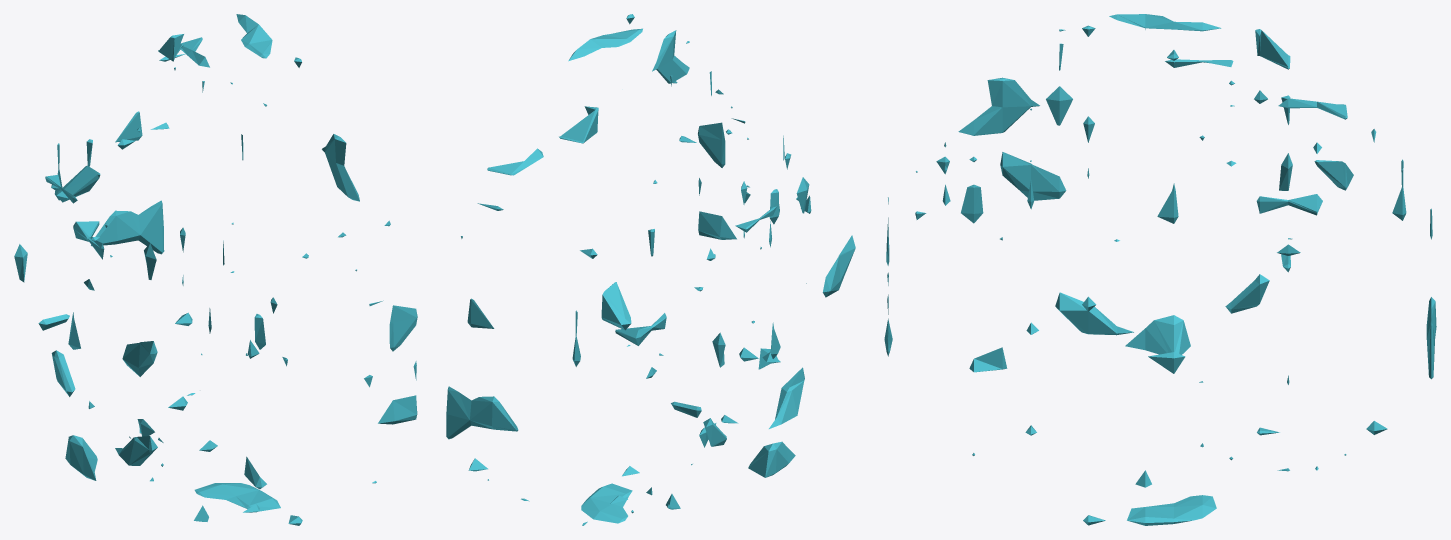
3 views of the same model, side by side, from view 1: azimuth 30°, elevation 25°; view 2: azimuth 150°, elevation 25°; view 3: azimuth 270°, elevation 25° (orthographic). The views are drawn at different scales.
Parts seen in each view (by area): view 1: Renderer Node; view 2: Renderer Node; view 3: Renderer Node.
Boxes of the visible parts, left/top/right/bottom form: Renderer Node: left=14, top=14, right=417, bottom=525; Renderer Node: left=446, top=14, right=855, bottom=525; Renderer Node: left=884, top=14, right=1436, bottom=525.
Size of the model in its own units: 0.3098 by 0.6403 by 0.6354.
1 material, 1 textured.
